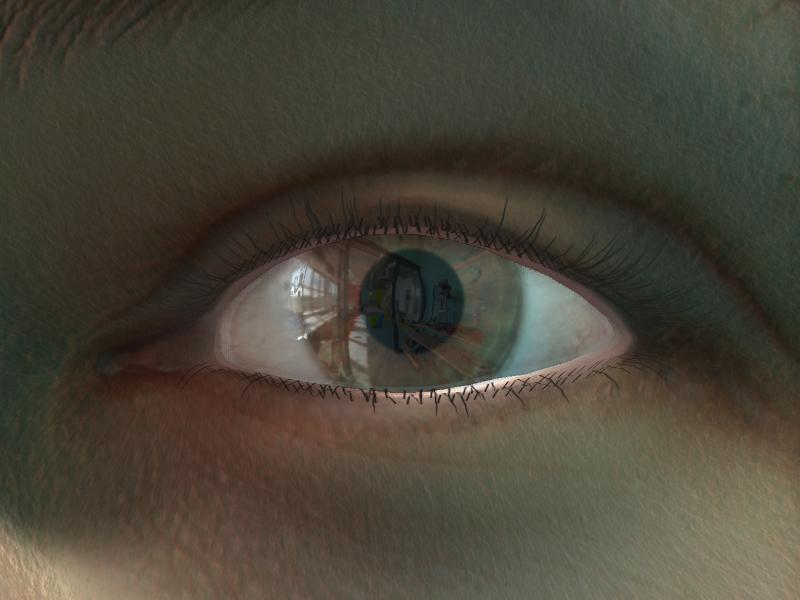eye: (294, 233, 525, 388)
